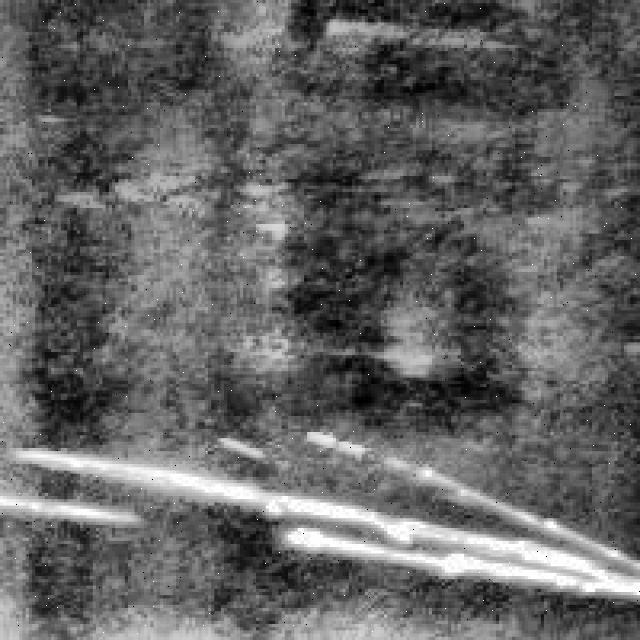Inclusion: (3, 429, 637, 592)
